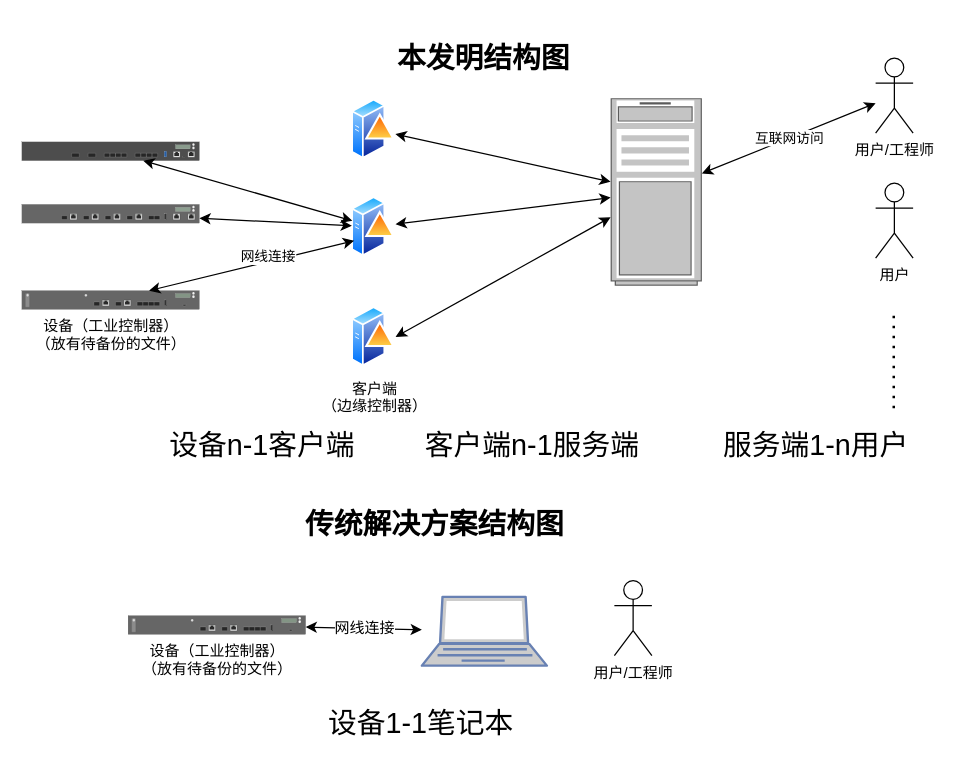
Some shapes in this 955 by 764 pixel diagram are drawn without their labels. The box of each missing label's shape, as (x1, y1, x2, y2) in pixels:
工程师的笔记本: (420, 595, 548, 666)
服务端 （核心控制器）: (609, 97, 702, 286)
